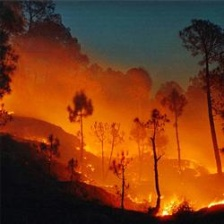fire: (80, 151, 224, 217)
